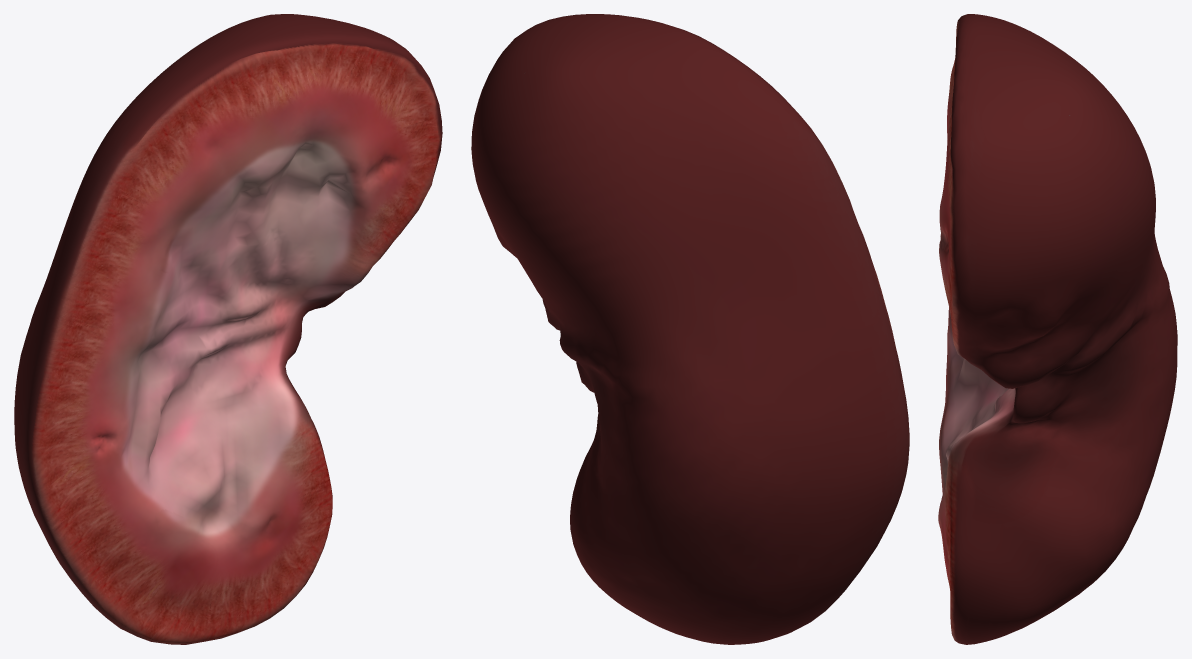
The model's file is 3_hidronefroz.glb.
The picture shows the model from 3 angles, left to right: view 1: azimuth 30°, elevation 25°; view 2: azimuth 150°, elevation 25°; view 3: azimuth 270°, elevation 25°; orthographic projection. The views are drawn at different scales.
Visible parts, largest first — view 1: hidronefroz; view 2: hidronefroz; view 3: hidronefroz.
Boxes of the visible parts, left/top/right/bottom form: hidronefroz: left=14, top=14, right=442, bottom=644; hidronefroz: left=471, top=14, right=909, bottom=644; hidronefroz: left=938, top=14, right=1177, bottom=644.
Size of the model in its own units: 0.382 by 0.5178 by 0.1805.
Materials: 1 (1 with a texture image).
